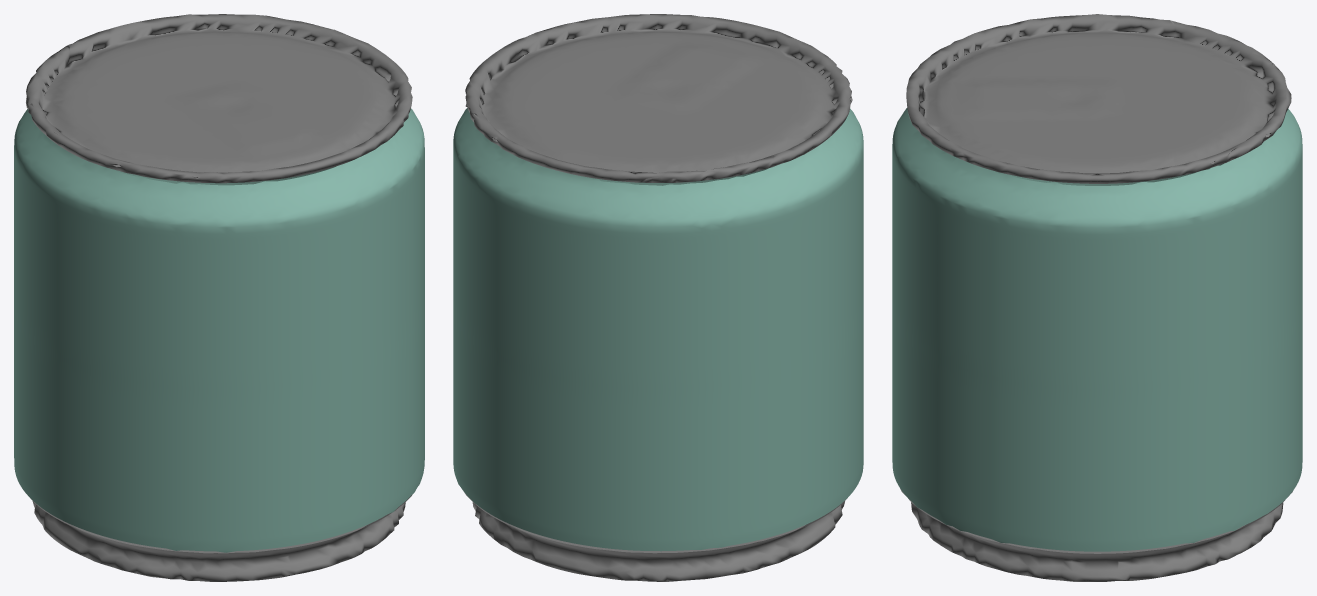
Rendered from alimento_no_perecedero.glb.
3 views of the same model, side by side, from view 1: azimuth 30°, elevation 25°; view 2: azimuth 150°, elevation 25°; view 3: azimuth 270°, elevation 25° (orthographic).
Parts seen in each view (by area): view 1: Coke; view 2: Coke; view 3: Coke.
Boxes of the visible parts, left/top/right/bottom form: Coke: left=14, top=14, right=424, bottom=581; Coke: left=453, top=14, right=863, bottom=581; Coke: left=892, top=14, right=1302, bottom=581.
Size of the model in its own units: 1.53 by 1.69 by 1.53.
